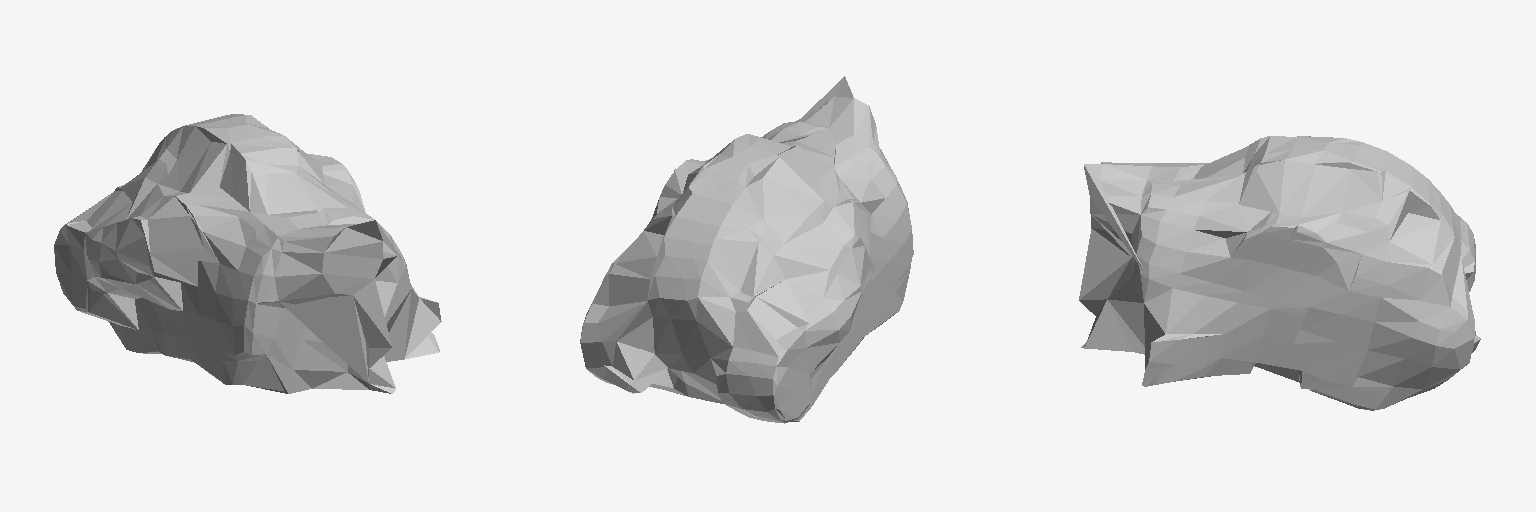
Rendered from sim_ecub_1-0_r_hand_index_1.obj.
3 renders of one model, left to right at view 1: azimuth 30°, elevation 25°; view 2: azimuth 150°, elevation 25°; view 3: azimuth 270°, elevation 25°, orthographic.
Size of the model in its own units: 23.74 by 21.17 by 34.4.